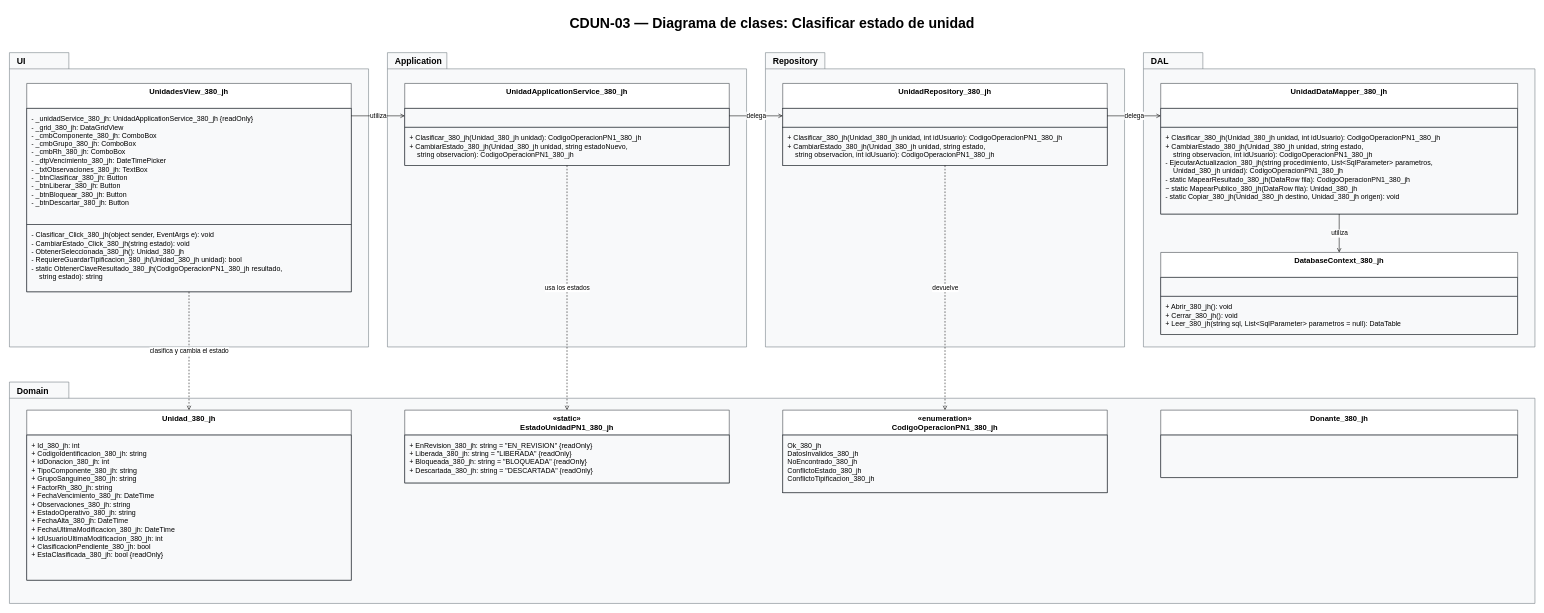
Image size: 1544x613. Some labels were removed from this diagram. Here are the shapes that lost their labels. From the top down, the centre of each, then its label:
[566,117]: - _unidadRepository_380_jh: UnidadRepository_380_jh {readOnly}
[944,117]: - _unidadDataMapper_380_jh: UnidadDataMapper_380_jh {readOnly}
[1339,117]: - _databaseContext_380_jh: DatabaseContext_380_jh {readOnly}
[1339,286]: + Conexion_380_jh: SqlConnection {readOnly}
[1339,456]: + Id_380_jh: int + GrupoSanguineo_380_jh: string + FactorRh_380_jh: string
